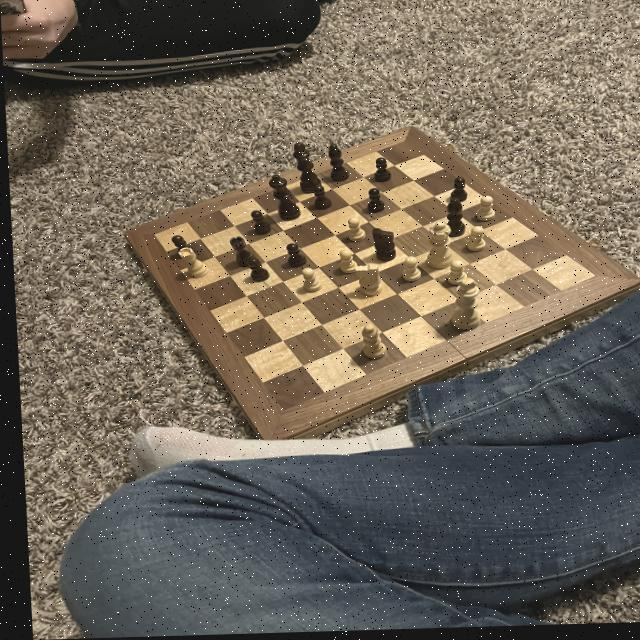bishop: (320, 145, 350, 188), (436, 198, 465, 242)
black-bishop: (287, 142, 323, 197)
black-king: (368, 226, 399, 265)
black-knight: (357, 189, 386, 218), (280, 242, 308, 270), (168, 233, 194, 260), (367, 158, 391, 187), (242, 258, 267, 284), (309, 185, 331, 214), (446, 178, 468, 205), (248, 210, 270, 237)
black-pawn: (264, 175, 302, 225)
black-queen: (225, 235, 256, 270)
black-rook: (354, 324, 384, 364)
white-bishop: (442, 279, 481, 336)
white-king: (348, 264, 382, 302)
white-knight: (469, 197, 497, 225), (331, 249, 358, 278), (461, 227, 487, 257), (439, 262, 466, 290), (341, 217, 367, 245), (296, 267, 321, 296), (396, 258, 419, 285)
white-pawn: (420, 221, 453, 275)
white-queen: (174, 246, 208, 280)
